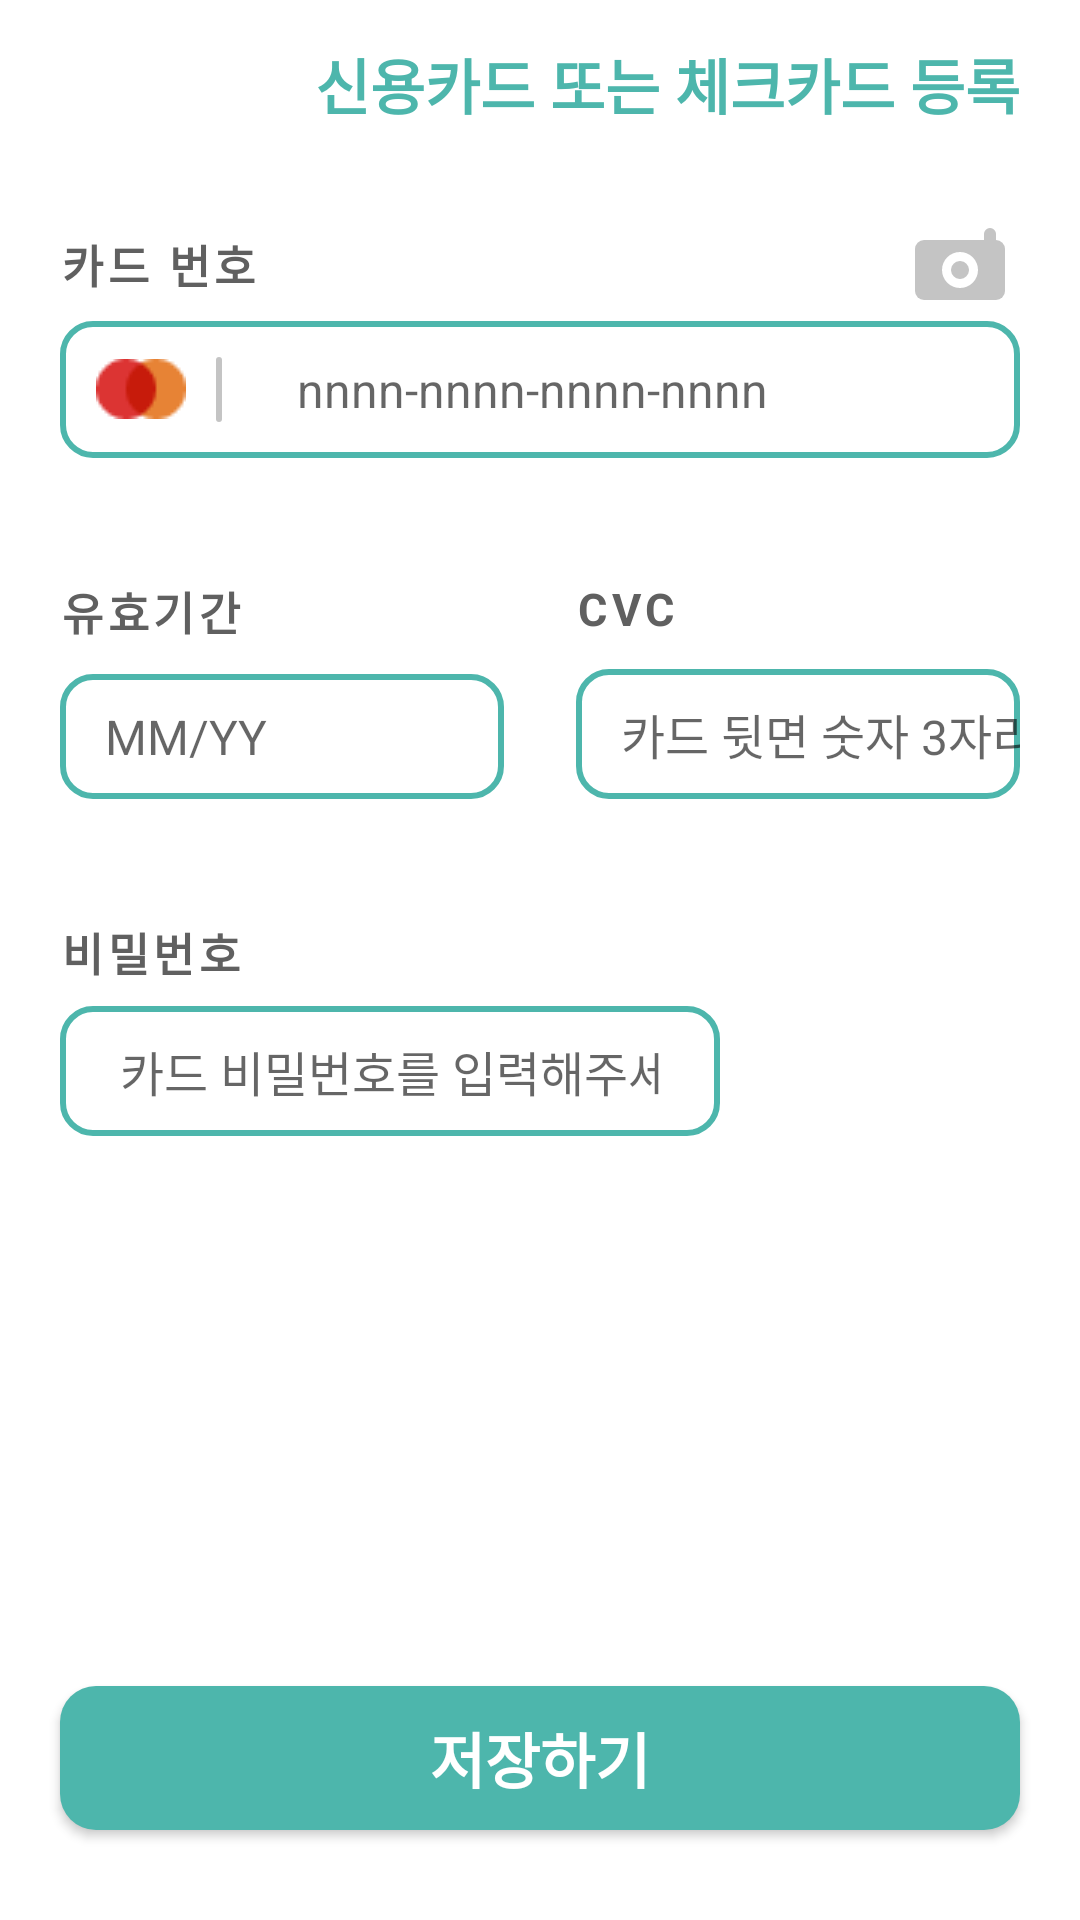

Point at icon controls on the screen. Image size 1080w x 1920h, points as [x,y].
camera: [960,264]
